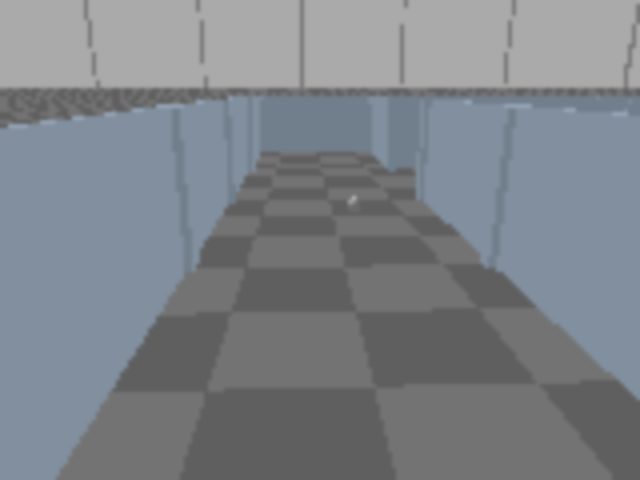puck: (344, 195, 364, 214)
